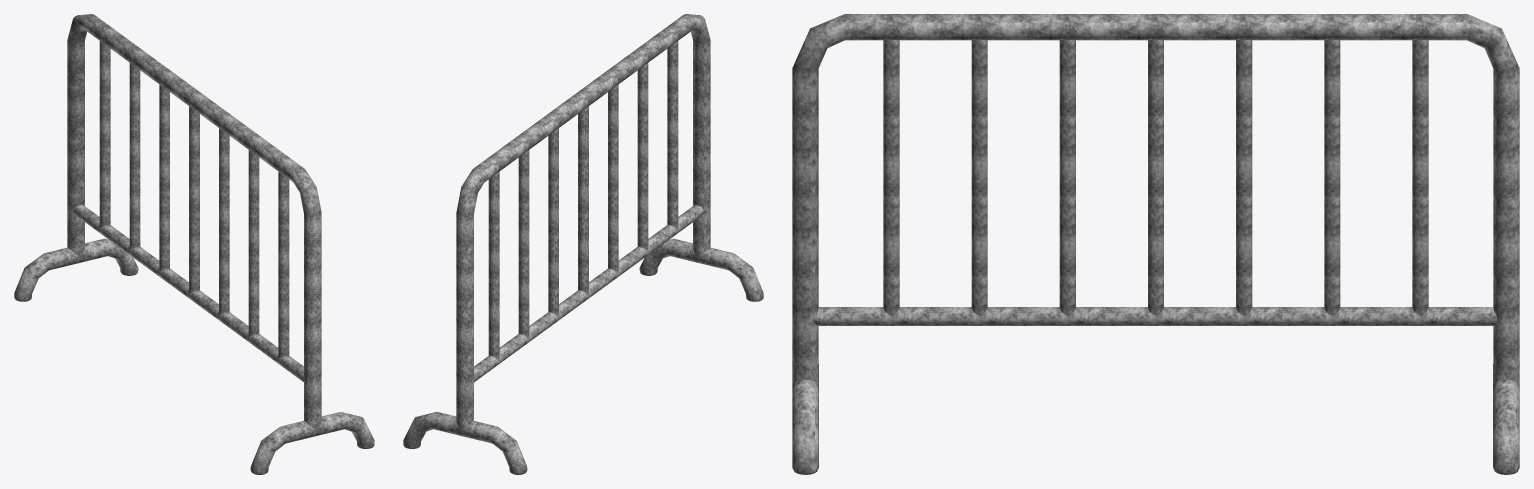
Rendered from gate.obj.
3 renders of one model, left to right at view 1: azimuth 30°, elevation 25°; view 2: azimuth 150°, elevation 25°; view 3: azimuth 270°, elevation 25°, orthographic. The views are drawn at different scales.
Visible parts, largest first — view 1: Fence_Cylinder.001; view 2: Fence_Cylinder.001; view 3: Fence_Cylinder.001.
Part boxes in pixels (x1=…): Fence_Cylinder.001: x1=14, y1=14, x2=374, y2=474; Fence_Cylinder.001: x1=403, y1=14, x2=763, y2=474; Fence_Cylinder.001: x1=792, y1=14, x2=1519, y2=474.
Size of the model in its own units: 1.12 by 2.48 by 3.93.
1 material, 1 textured.
